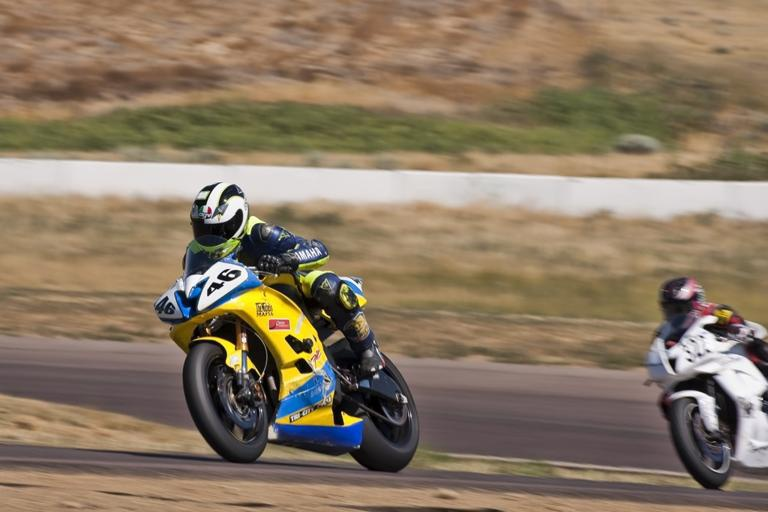non-vehicle: (150, 236, 421, 475), (641, 313, 767, 489)
